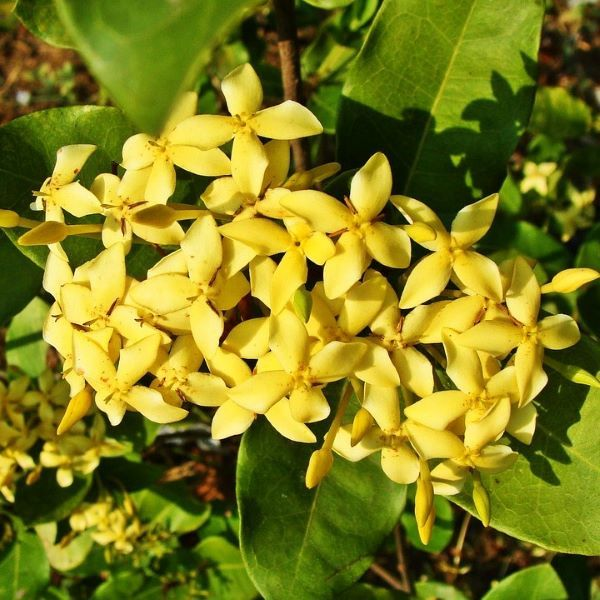ixora: (168, 70, 315, 192), (284, 164, 413, 286), (244, 310, 360, 419), (137, 223, 233, 345), (402, 199, 507, 301), (488, 274, 573, 388), (78, 338, 188, 426)
